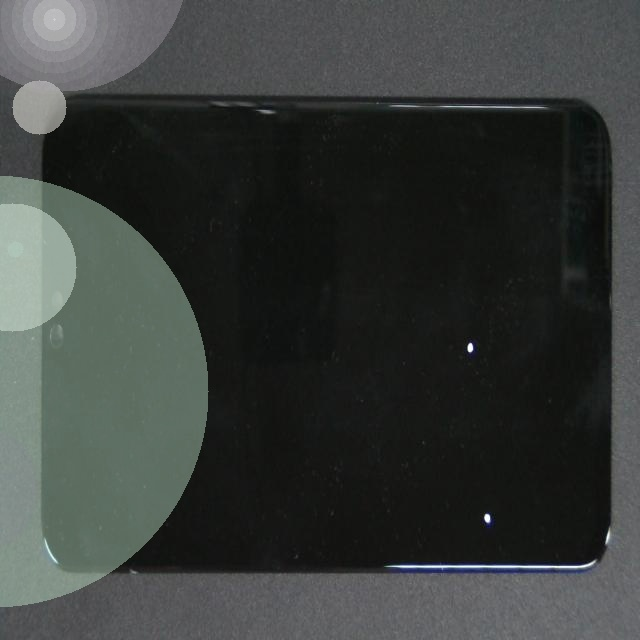stain: (255, 247, 640, 640), (243, 152, 640, 492)
